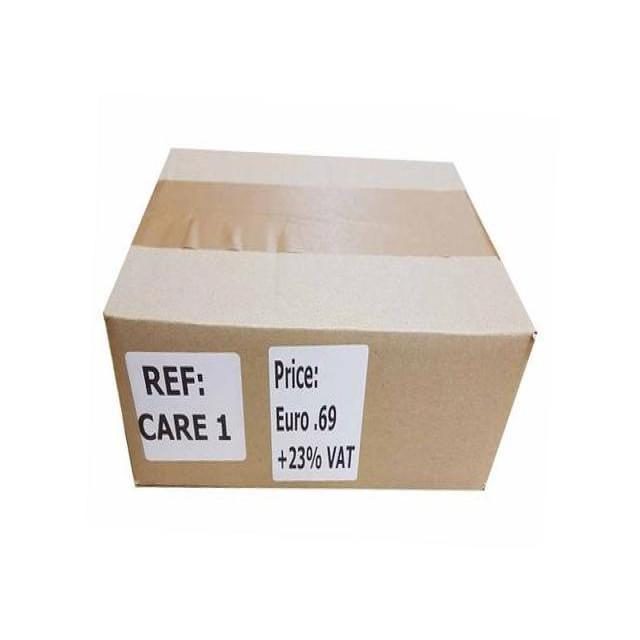Cardboard: (105, 154, 536, 493)
